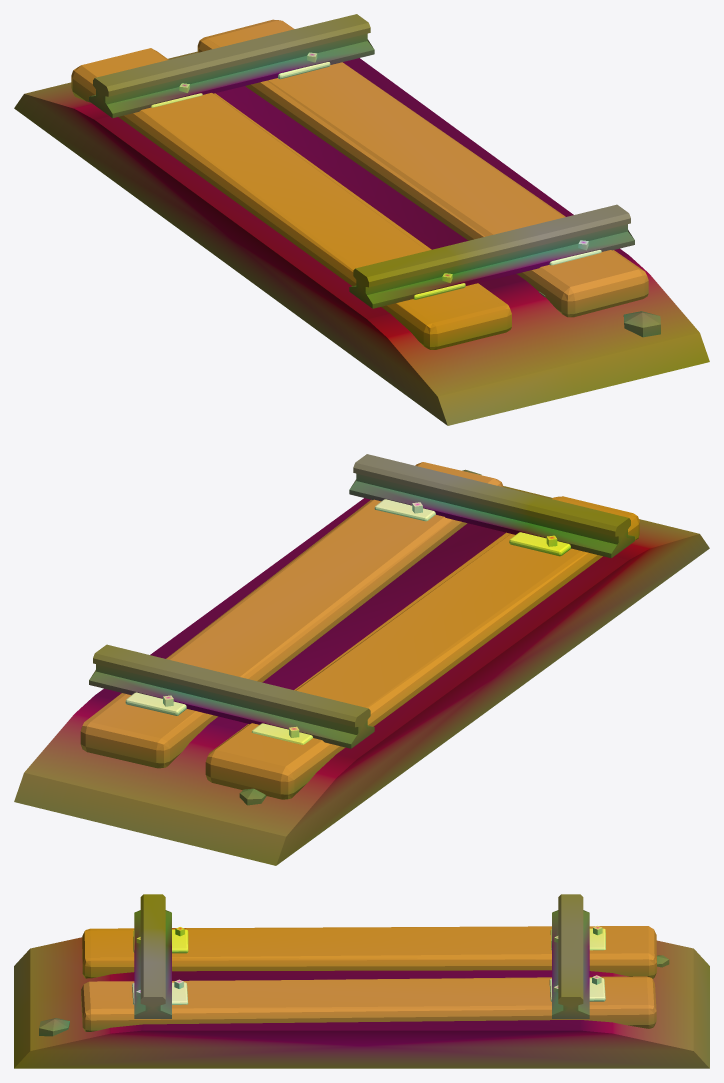
Rendered from Track_Straight_1_5m.fbx.
3 renders of one model, top to bottom at view 1: azimuth 30°, elevation 25°; view 2: azimuth 150°, elevation 25°; view 3: azimuth 270°, elevation 25°, orthographic. The views are drawn at different scales.
Visible parts, largest first — view 1: Track_Straight_1_5m; view 2: Track_Straight_1_5m; view 3: Track_Straight_1_5m.
Part boxes in pixels (x1,y1,x2,y2): Track_Straight_1_5m: [14, 14, 709, 425]; Track_Straight_1_5m: [14, 454, 709, 865]; Track_Straight_1_5m: [14, 894, 709, 1068].
Size of the model in its own units: 1.5 by 0.49 by 4.3.
